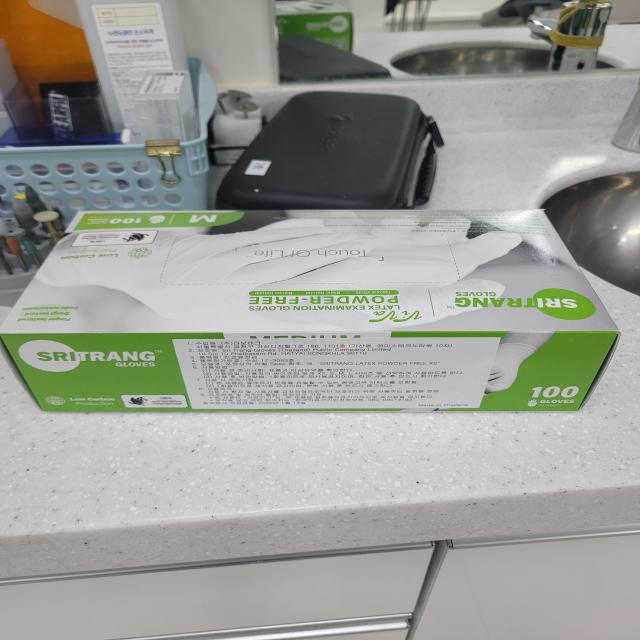glove: (6, 195, 628, 436)
